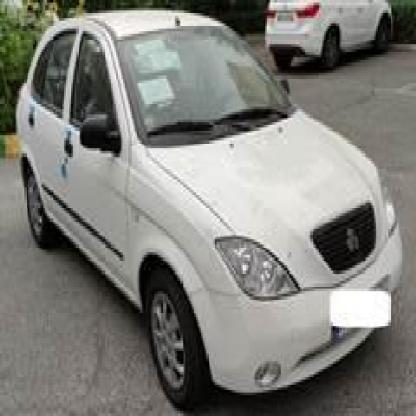Car: (1, 21, 413, 411), (263, 0, 398, 78)
